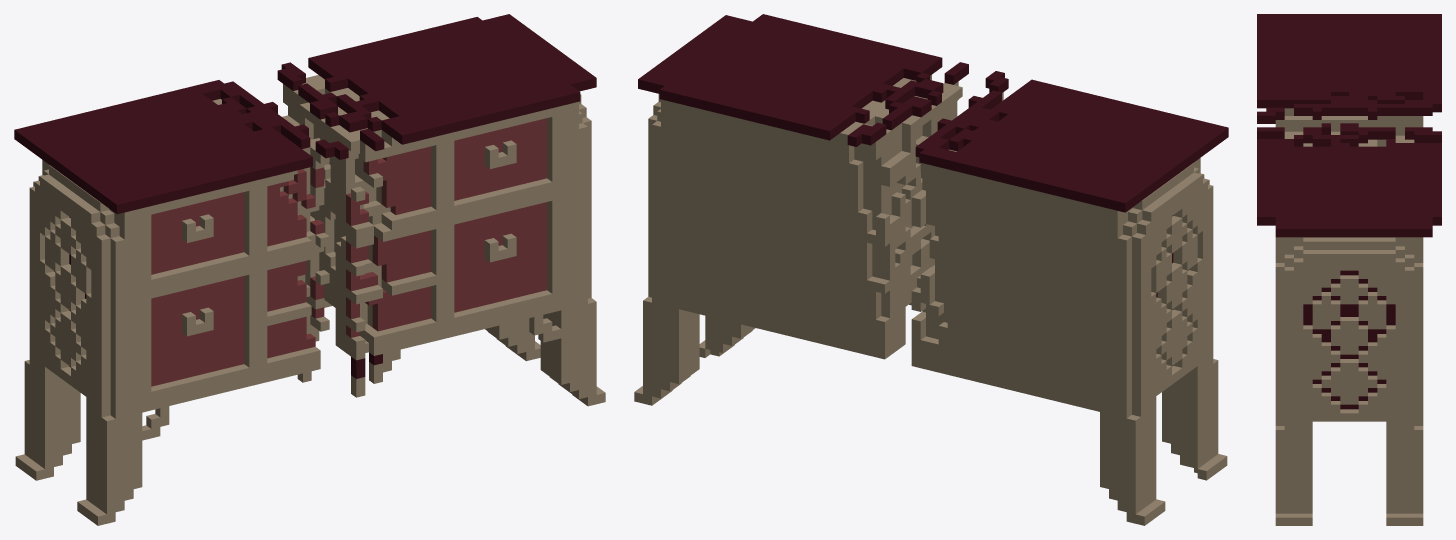
The model's file is Commode 2 brise.obj.
3 renders of one model, left to right at view 1: azimuth 30°, elevation 25°; view 2: azimuth 150°, elevation 25°; view 3: azimuth 270°, elevation 25°, orthographic. The views are drawn at different scales.
Visible parts, largest first — view 1: Commode 2 brise; view 2: Commode 2 brise; view 3: Commode 2 brise.
Part boxes in pixels (bbox=[...]): Commode 2 brise: bbox=[14, 14, 605, 525]; Commode 2 brise: bbox=[634, 14, 1228, 525]; Commode 2 brise: bbox=[1257, 14, 1441, 525].
Bounding box in the file's own units: 57 × 35 × 20.
1 material, 1 textured.
